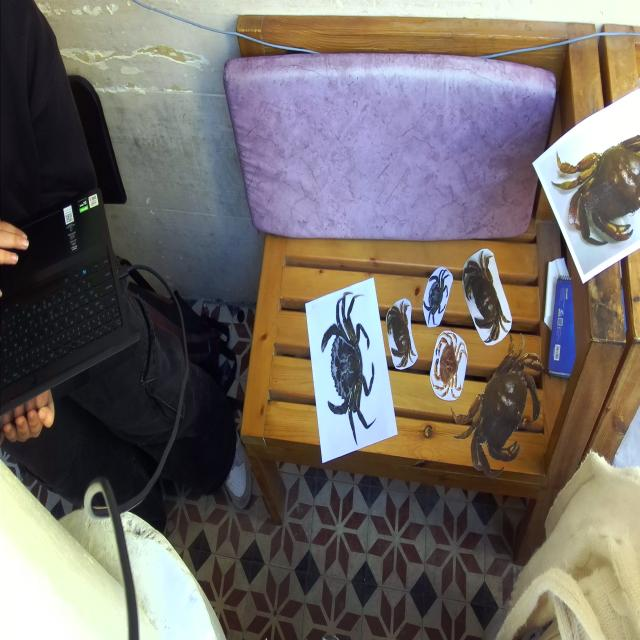European_Green_Crab: (315, 284, 383, 456), (419, 259, 454, 335)
